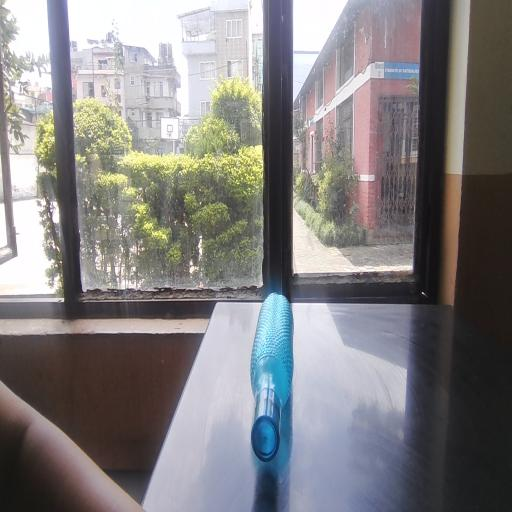Bottle: (246, 271, 297, 512)
